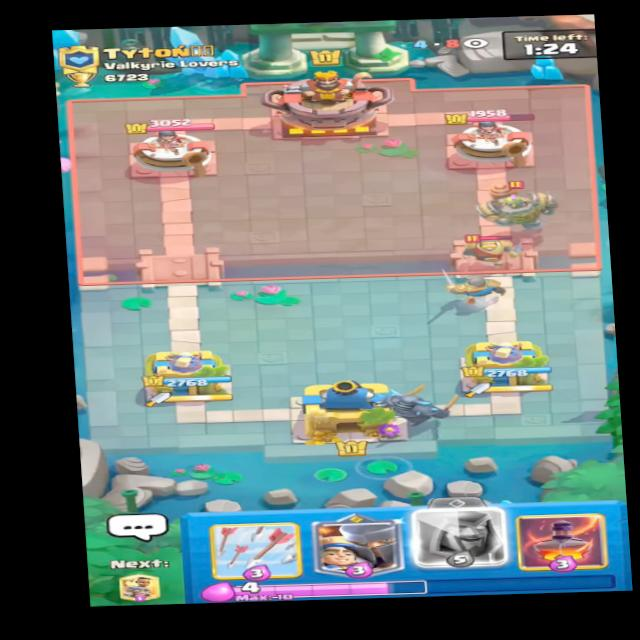Goblinmachine: (476, 177, 565, 237)
Knight: (456, 226, 535, 269)
